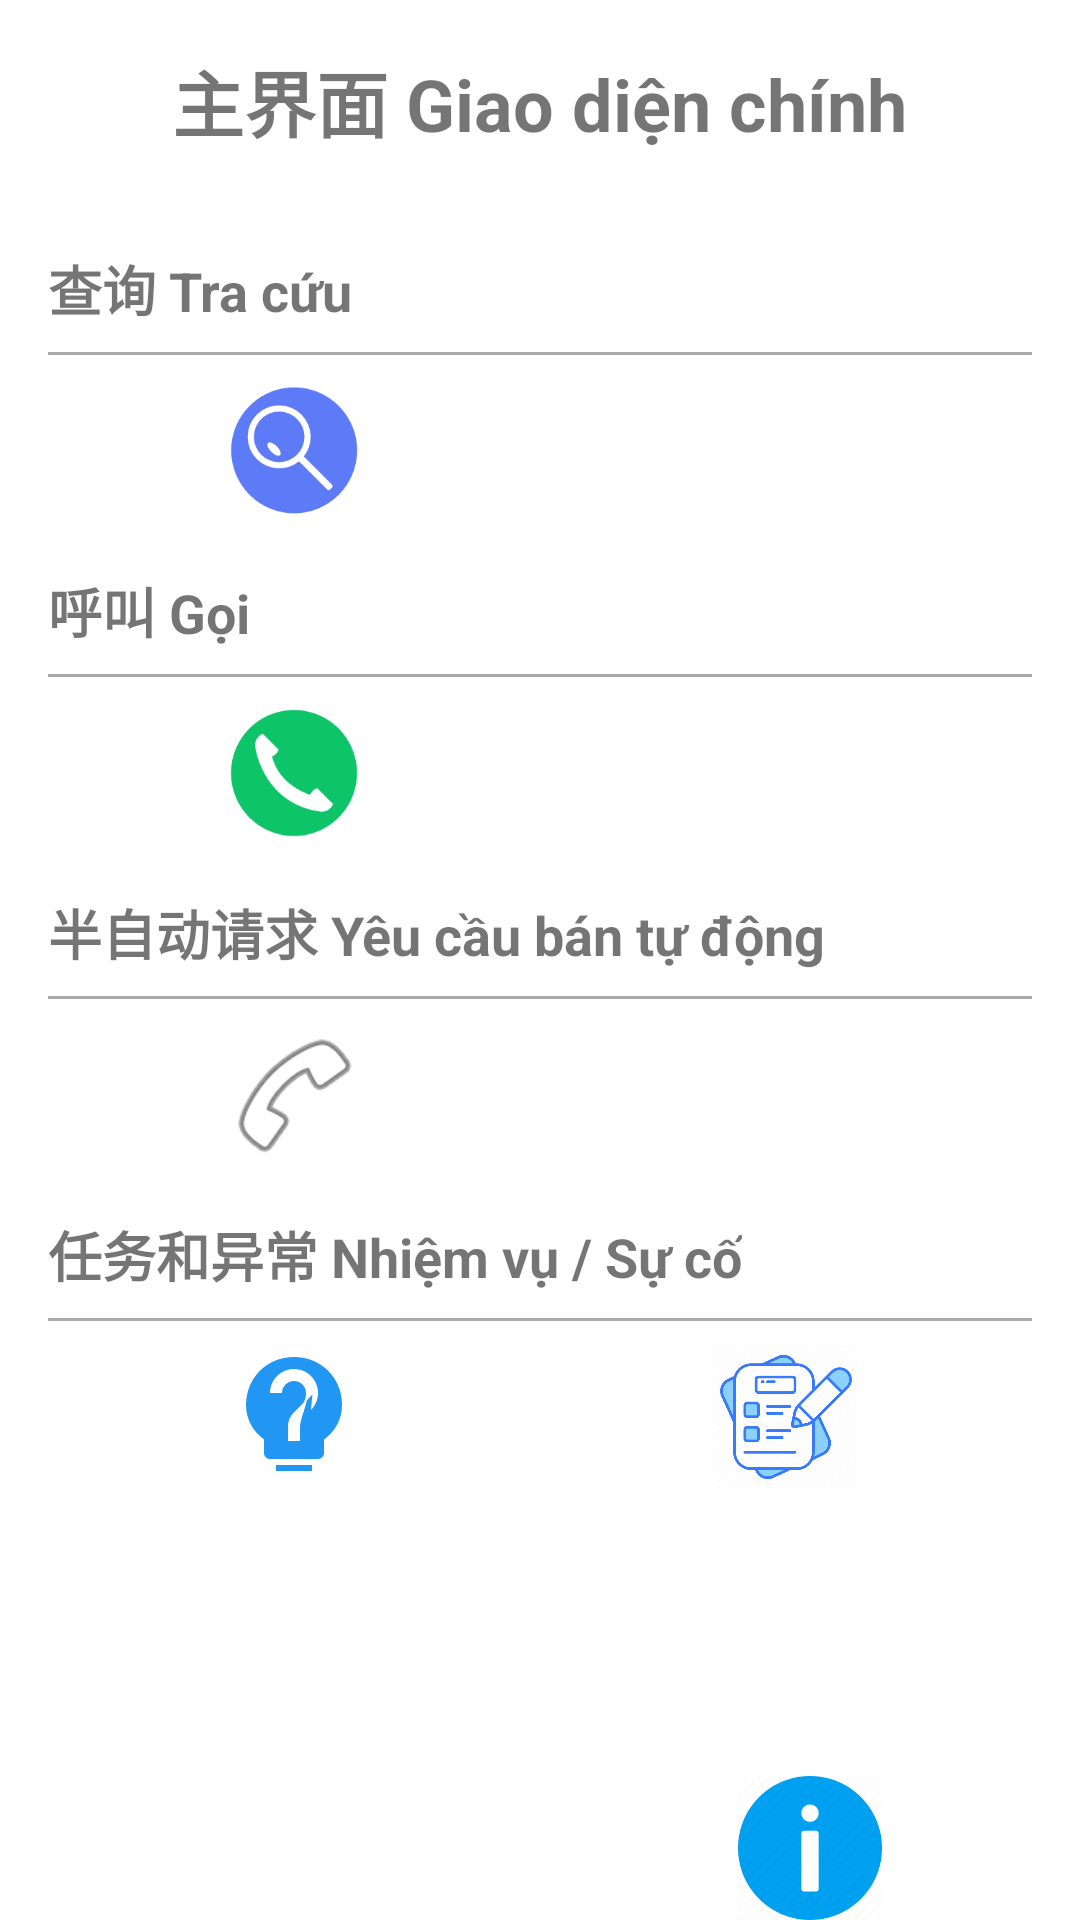

Locate icon controls on the screen. Image size 1080px x 1920px, boxes as (x1, y1, x2, y2).
bulb: (246, 1357, 342, 1471)
Call AGV: (230, 709, 358, 837)
Info: (738, 1776, 882, 1920)
Query: (231, 387, 358, 514)
task: (720, 1355, 852, 1479)
